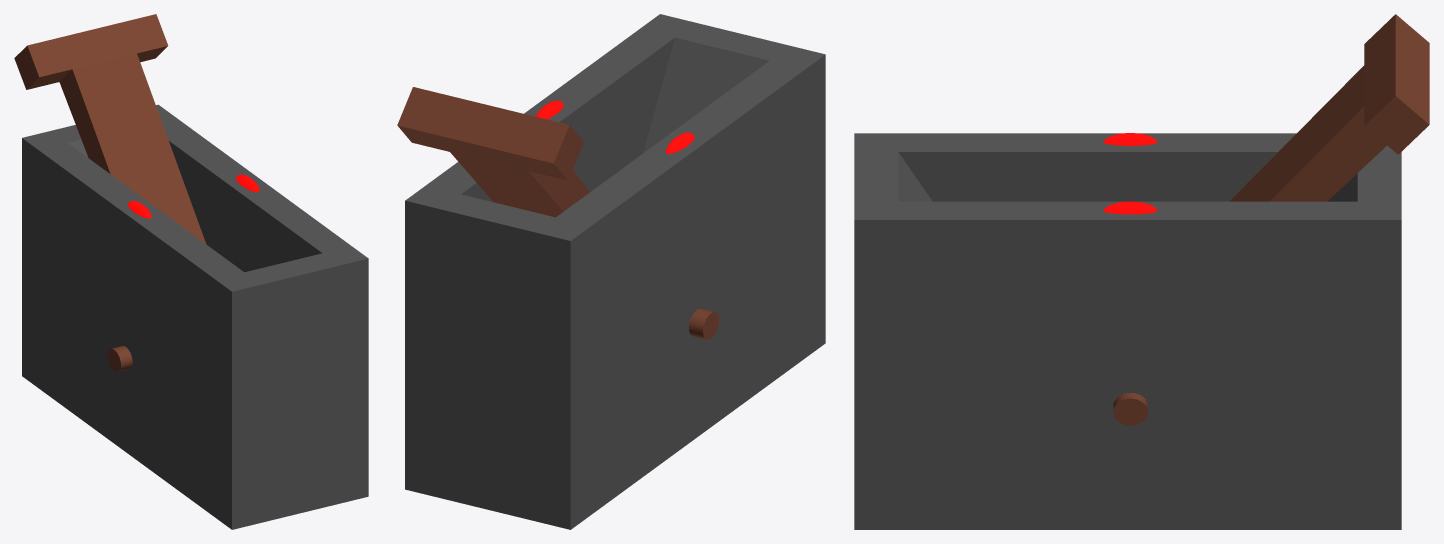
The model's file is Lever off.fbx.
The picture shows the model from 3 angles, left to right: view 1: azimuth 30°, elevation 25°; view 2: azimuth 150°, elevation 25°; view 3: azimuth 270°, elevation 25°; orthographic projection. The views are drawn at different scales.
Parts seen in each view (by area): view 1: Cylinder; view 2: Cylinder; view 3: Cylinder.
Part boxes in pixels (box(x1,y1,x2,y2)): Cylinder: box(14, 14, 368, 529); Cylinder: box(397, 14, 825, 529); Cylinder: box(854, 14, 1429, 529).
Bounding box in the file's own units: 69.01 × 139 × 168.
